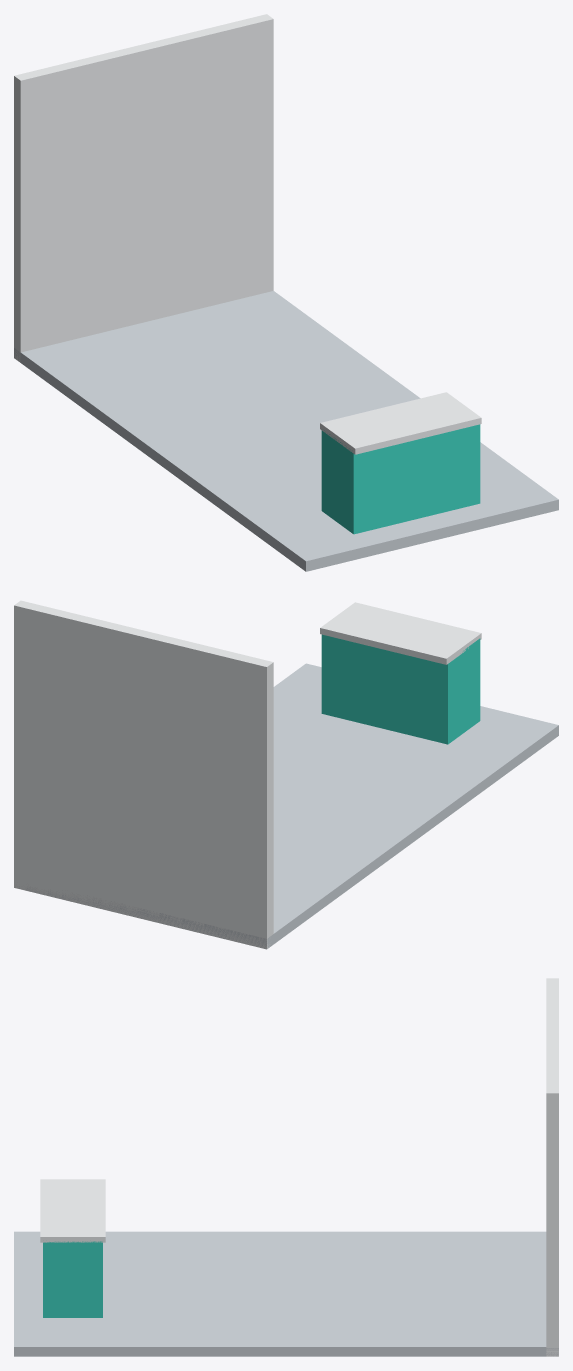
3 renders of one model, top to bottom at view 1: azimuth 30°, elevation 25°; view 2: azimuth 150°, elevation 25°; view 3: azimuth 270°, elevation 25°, orthographic. The views are drawn at different scales.
Parts seen in each view (by area): view 1: Exhibition Booth Concept; view 2: Exhibition Booth Concept; view 3: Exhibition Booth Concept.
Part boxes in pixels (x1,y1,x2,y2): Exhibition Booth Concept: (14, 14, 558, 571); Exhibition Booth Concept: (14, 600, 558, 949); Exhibition Booth Concept: (14, 978, 558, 1356).
Size of the model in its own units: 3 by 3.2 by 6.
